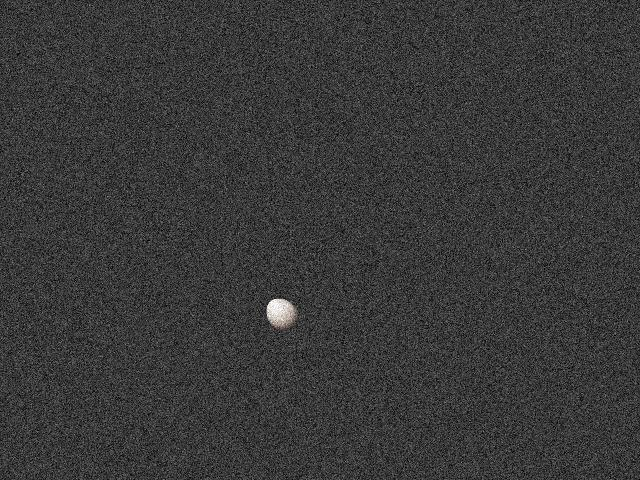egg: (266, 298, 299, 330)
